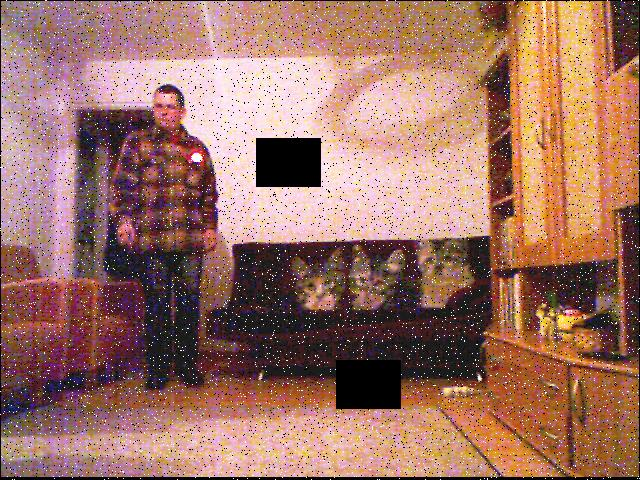walking: (104, 65, 228, 389)
